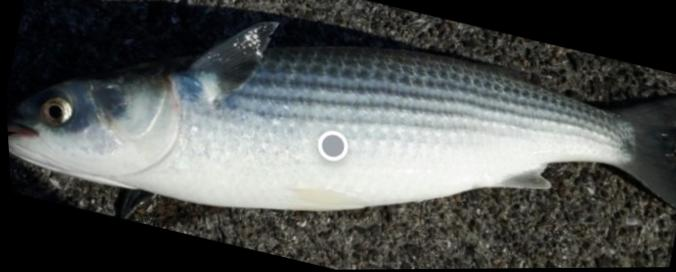fish: (5, 21, 676, 212)
